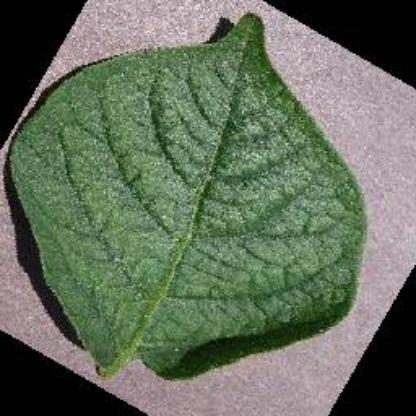Healthy-plant: (0, 11, 381, 399)
